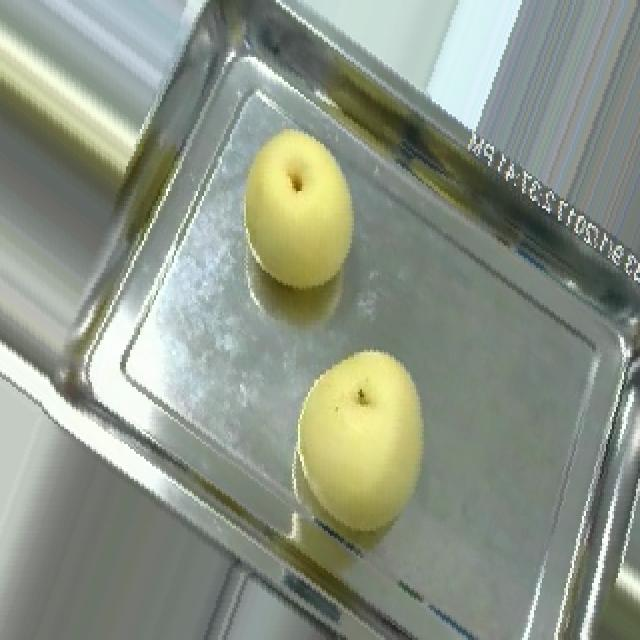Fruit: (262, 330, 454, 556), (222, 112, 372, 305)
